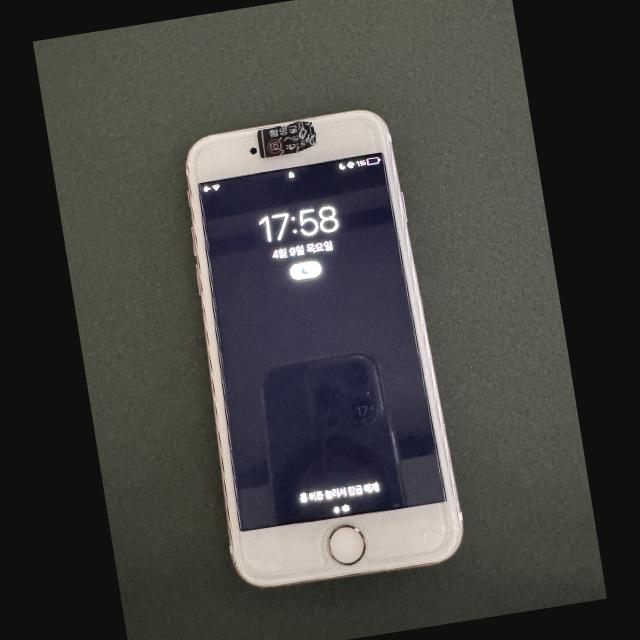phone: (186, 110, 463, 586)
sticker: (258, 121, 316, 158)
